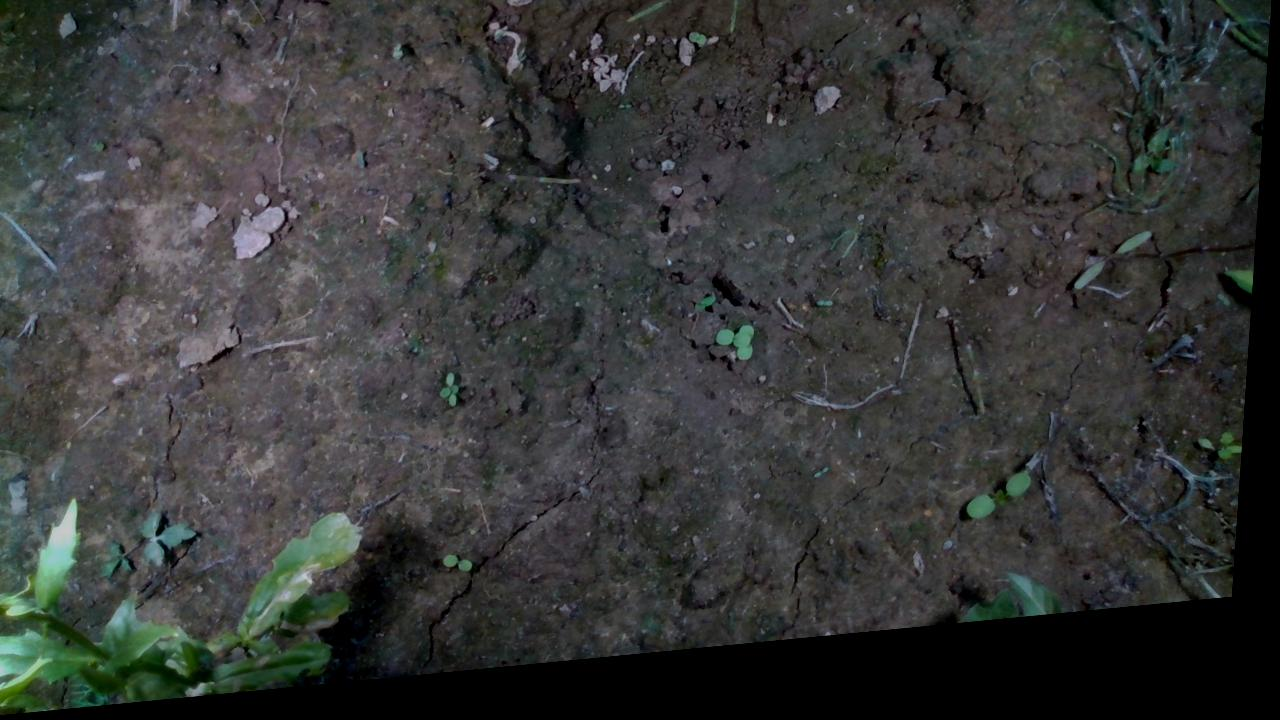weed: (1074, 251, 1159, 314), (975, 488, 1042, 541), (443, 377, 480, 416), (450, 560, 482, 582)
